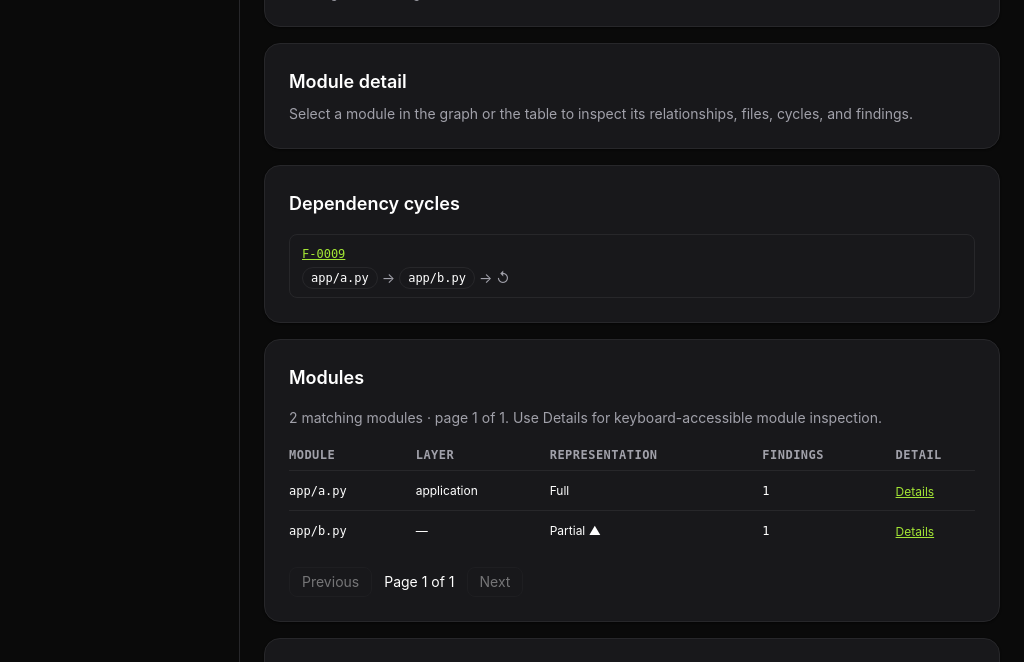
Test: Architecture page › lists cycles with navigation to modules and findings
(page scrolled)
Expected: the heading "Dependency cycles" is shown, [289, 193, 460, 214]
Expected: the link "F-0009" is shown, [302, 247, 345, 261]
Click the button with aria-label "Open module". click: {"x": 340, "y": 278}
box: [302, 267, 378, 289]
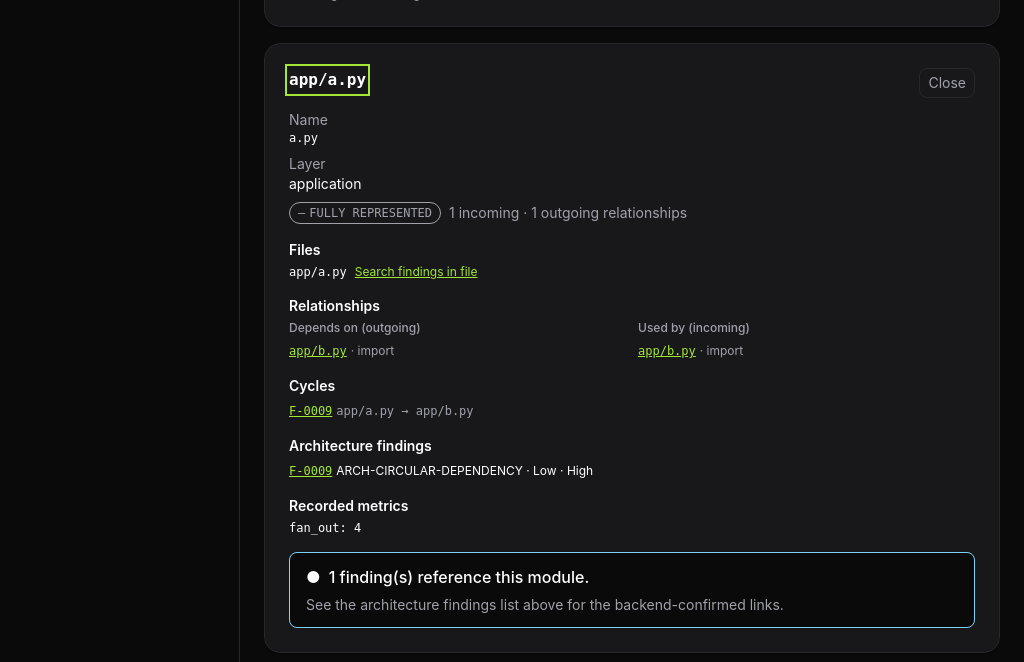
Expected: the heading "app/a.py" is shown, [289, 68, 366, 92]
